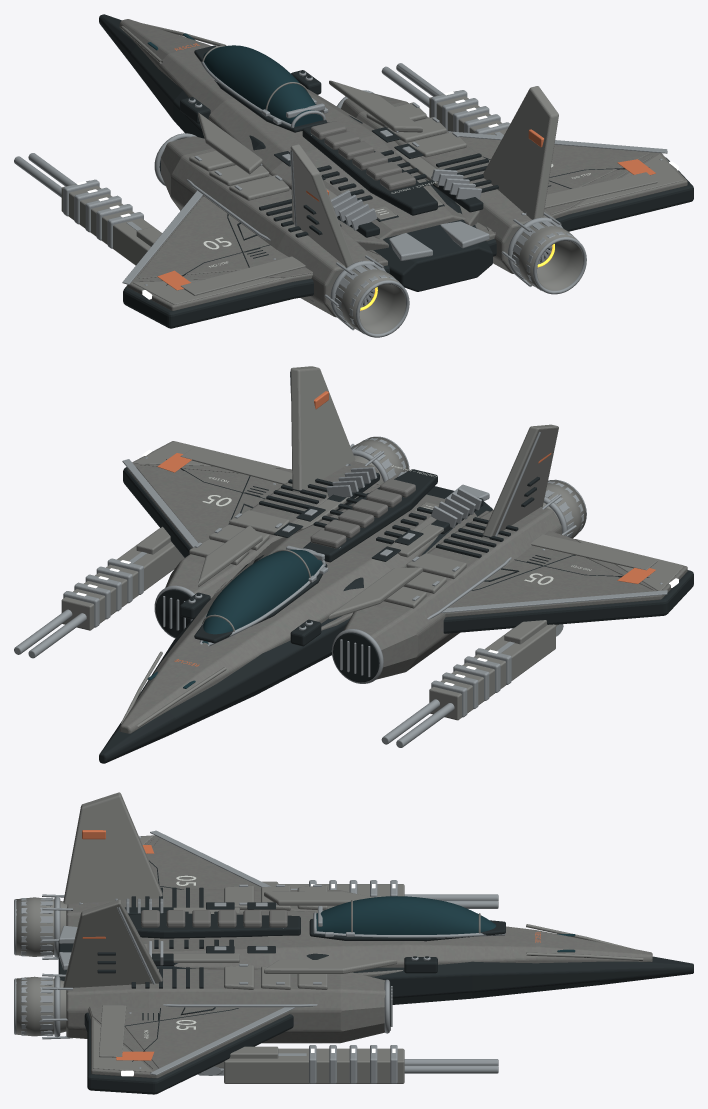
Rendered from nova.glb.
The picture shows the model from 3 angles, top to bottom: view 1: azimuth 30°, elevation 25°; view 2: azimuth 150°, elevation 25°; view 3: azimuth 270°, elevation 25°; orthographic projection. The views are drawn at different scales.
Visible parts, largest first — view 1: 主装甲_陶瓷金属涂层, 次级装甲_深色钢, 碳化结构与接缝, 拉丝钛合金, 镀膜座舱玻璃, 识别色; view 2: 主装甲_陶瓷金属涂层, 次级装甲_深色钢, 碳化结构与接缝, 拉丝钛合金, 镀膜座舱玻璃, 识别色; view 3: 主装甲_陶瓷金属涂层, 次级装甲_深色钢, 碳化结构与接缝, 拉丝钛合金, 镀膜座舱玻璃, 识别色.
Part boxes in pixels (x1,y1,x2,y2): 主装甲_陶瓷金属涂层: (119,19,687,317); 次级装甲_深色钢: (61,23,683,333); 碳化结构与接缝: (99,14,693,328); 拉丝钛合金: (14,61,667,337); 镀膜座舱玻璃: (147,33,322,126); 识别色: (157,43,655,290); 主装甲_陶瓷金属涂层: (119,441,687,733); 次级装甲_深色钢: (61,366,683,727); 碳化结构与接缝: (99,459,693,763); 拉丝钛合金: (14,371,667,747); 镀膜座舱玻璃: (147,549,322,688); 识别色: (157,391,655,666); 主装甲_陶瓷金属涂层: (66,835,652,1078); 次级装甲_深色钢: (16,792,643,1083); 碳化结构与接缝: (58,860,693,1094); 拉丝钛合金: (14,830,505,1083); 镀膜座舱玻璃: (316,896,575,952); 识别色: (82,830,540,1060).
Size of the model in its own units: 8.29 by 2.34 by 9.77.
Materials: 9 (1 with a texture image).
